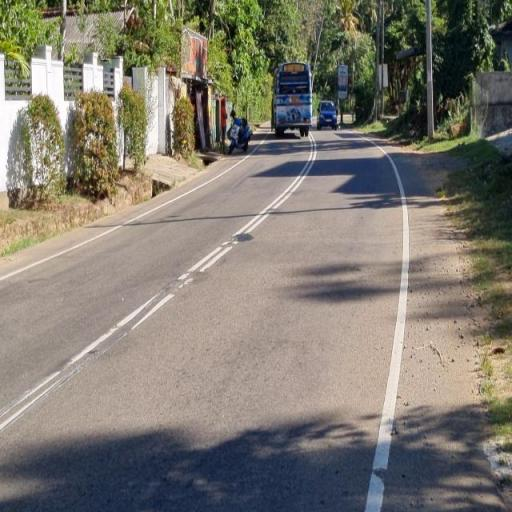double_white_line: (176, 133, 318, 289)
